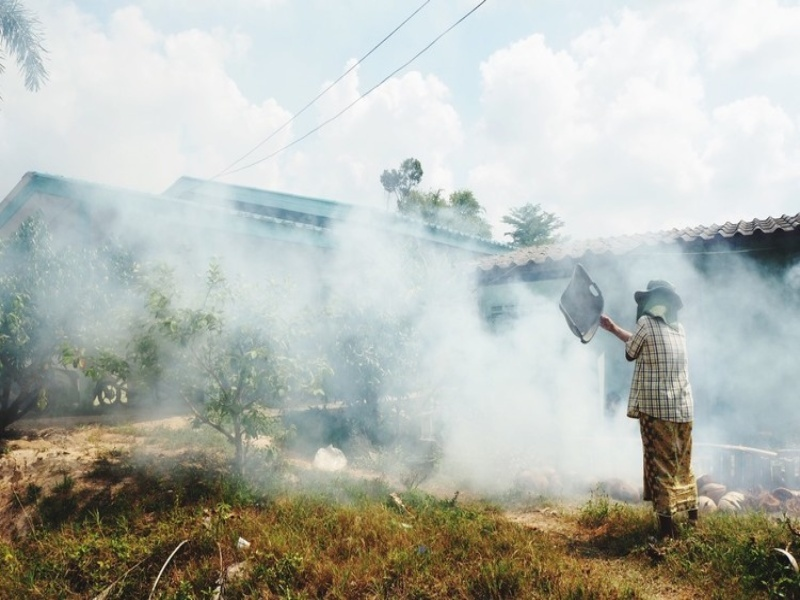smoke: (22, 185, 781, 497)
